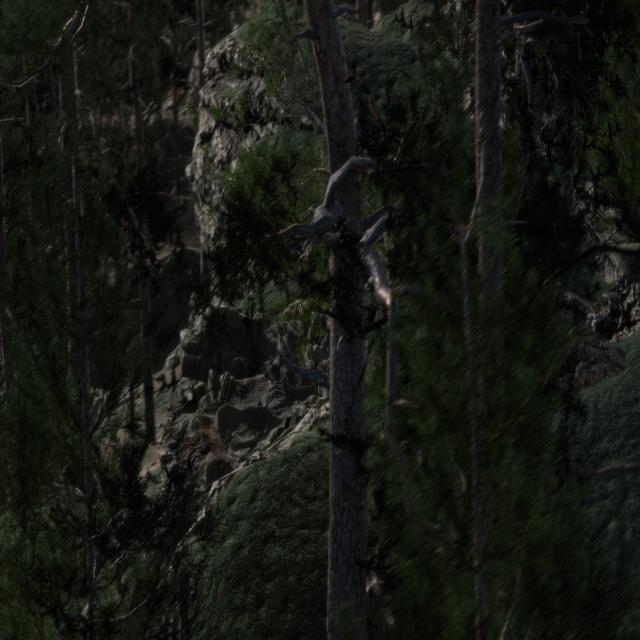Human: (284, 350, 327, 409)
